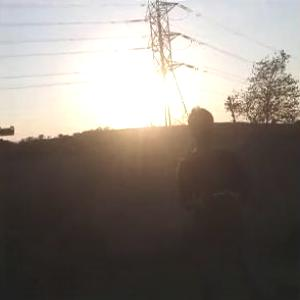follow: (173, 102, 253, 299)
